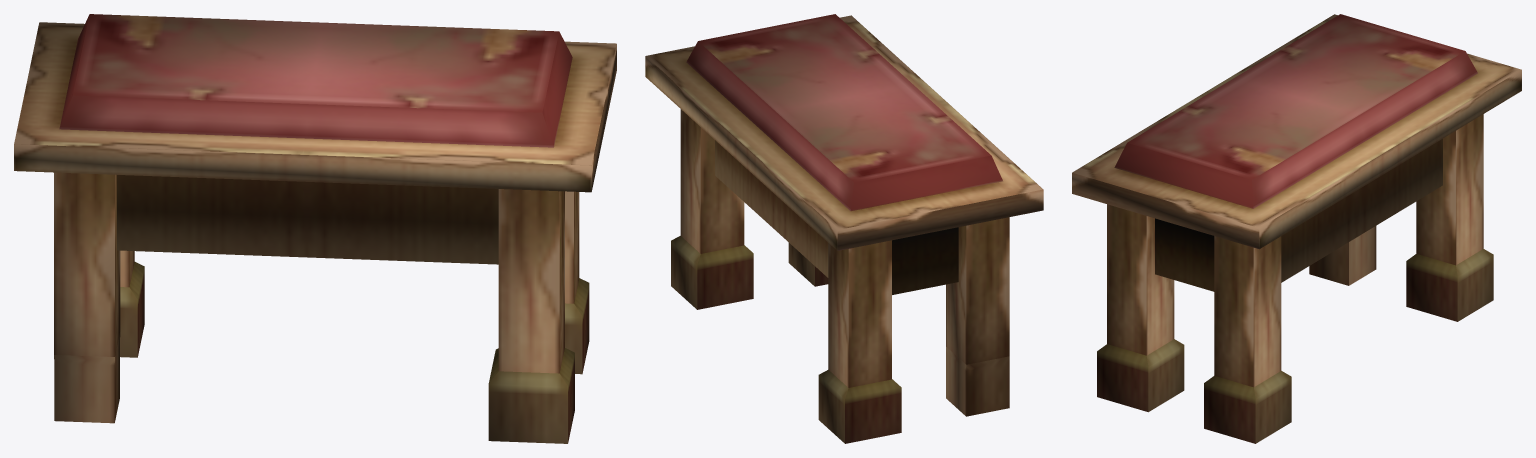
File: c_SWGchair03b01.glb
3 views of the same model, side by side, from view 1: azimuth 30°, elevation 25°; view 2: azimuth 150°, elevation 25°; view 3: azimuth 270°, elevation 25° (orthographic). The views are drawn at different scales.
Visible parts, largest first — view 1: c_SWGchair03b01; view 2: c_SWGchair03b01; view 3: c_SWGchair03b01.
Part boxes in pixels (box(x1,y1,x2,y2)): c_SWGchair03b01: box(14, 14, 616, 443); c_SWGchair03b01: box(645, 14, 1043, 443); c_SWGchair03b01: box(1072, 14, 1521, 443).
Bounding box in the file's own units: 1.11 × 0.6068 × 0.9832.
Materials: 1 (1 with a texture image).
